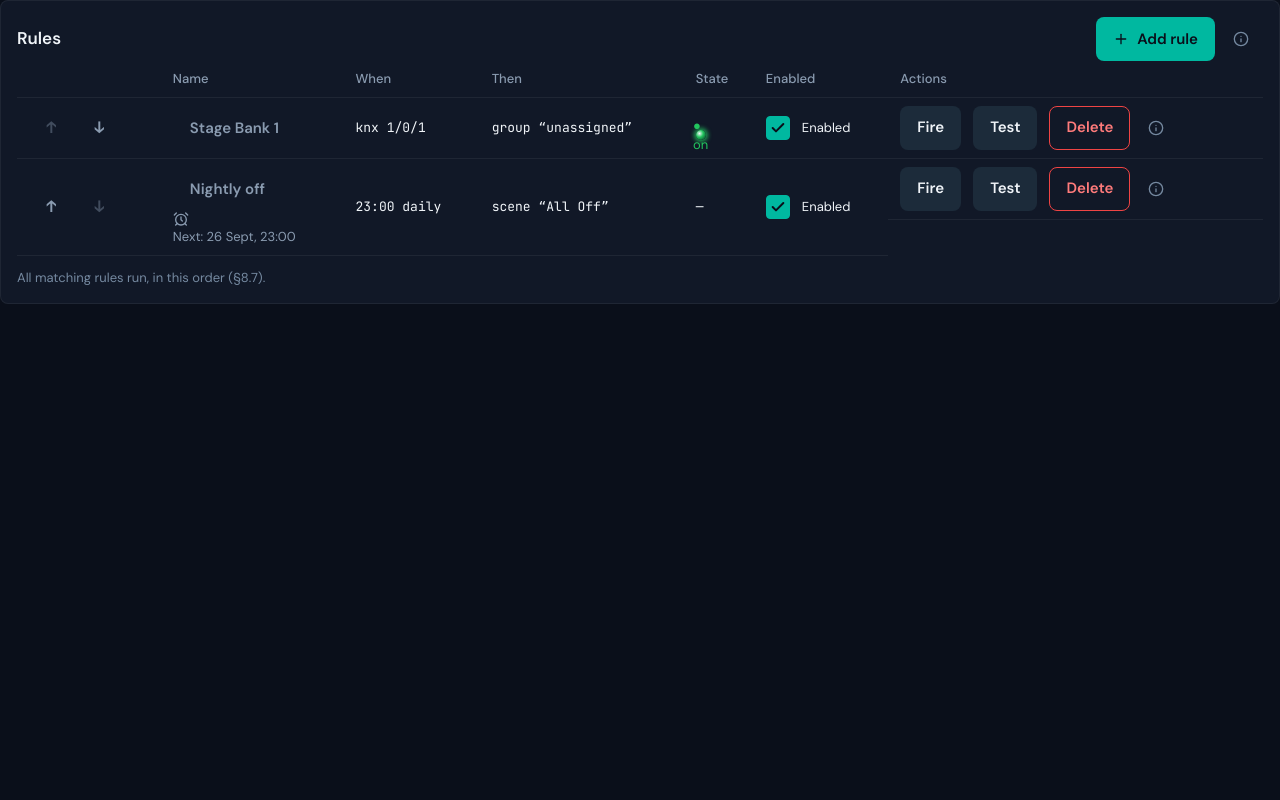
Test: RulesTab › shows what references a rule when its delete is refused with 409 in_use
What coordinates should you click on to do the following:
click the button "Delete" in the row of "knx 1/0/1"
I would click on:
 (1090, 128)
Its box is x1=1050 y1=106 x2=1130 y2=150.
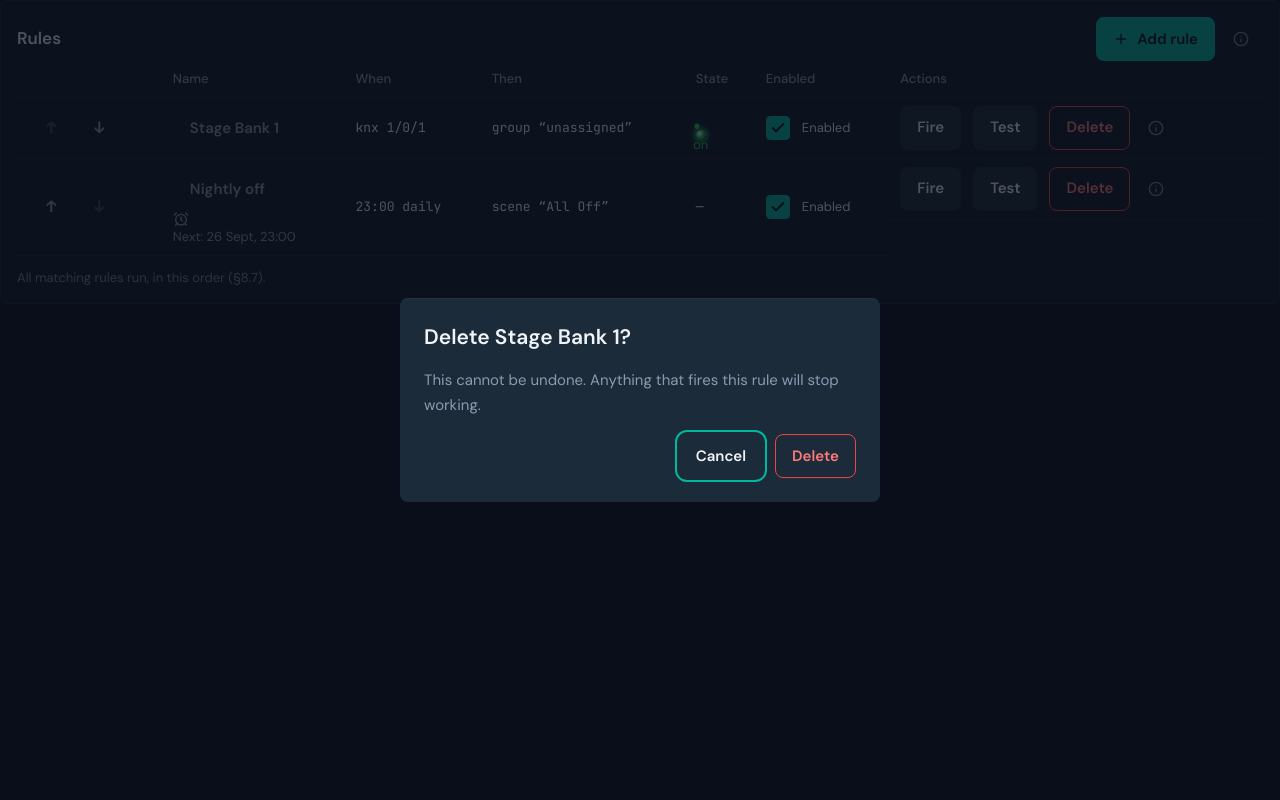
What coordinates should you click on to do the following:
click the button "Delete"
I would click on:
 (816, 456)
Its box is x1=775 y1=434 x2=856 y2=478.
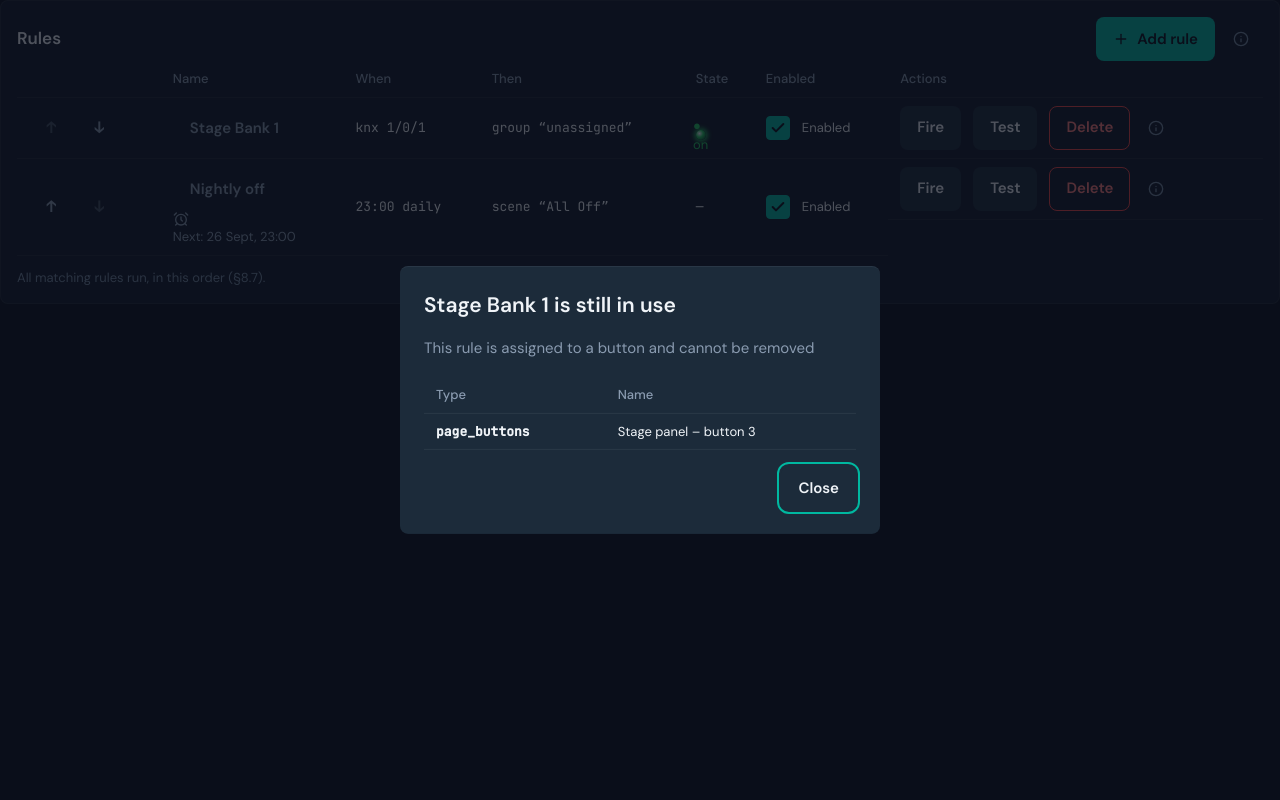
Check: the text "Stage panel – button 3" is shown, box x1=606 y1=414 x2=856 y2=450
Check: the text "This rule is assigned to a button and cannot be removed" is shown, box x1=424 y1=336 x2=856 y2=361
